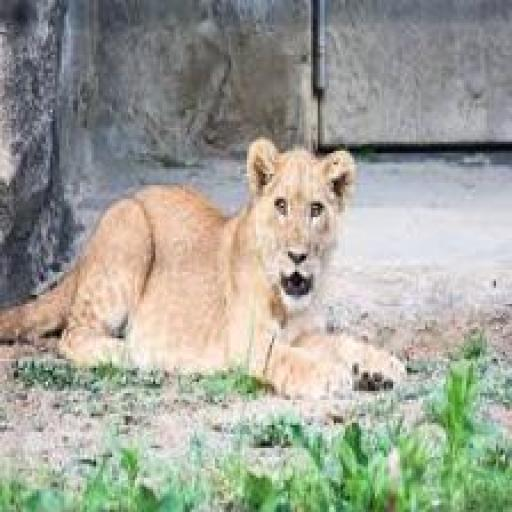lion: (11, 91, 375, 471)
